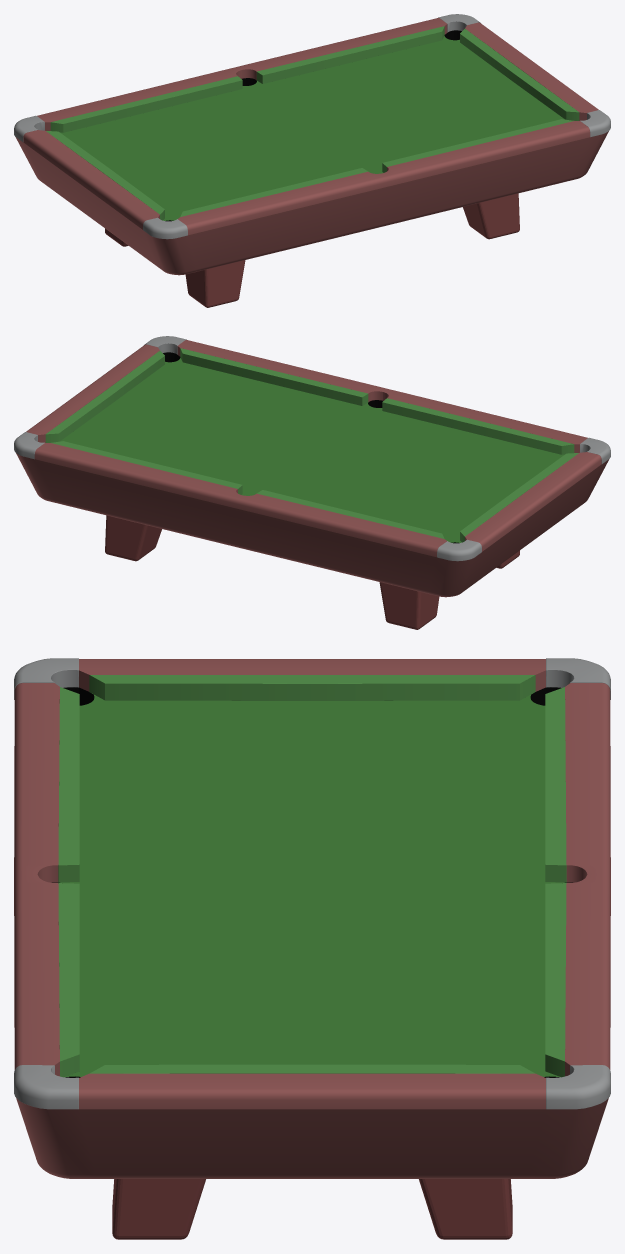
File: Pool_Table_fbx.fbx
3 renders of one model, top to bottom at view 1: azimuth 30°, elevation 25°; view 2: azimuth 150°, elevation 25°; view 3: azimuth 270°, elevation 25°, orthographic. The views are drawn at different scales.
Visible parts, largest first — view 1: Circle.001, Circle.002, Plane, Cube, Circle.003; view 2: Circle.001, Circle.002, Plane, Cube, Circle.003; view 3: Circle.001, Circle.002, Plane, Cube, Circle.003.
Part boxes in pixels (x1=…): Circle.001: x1=60, y1=36, x2=574, y2=220; Circle.002: x1=15, y1=18, x2=608, y2=275; Plane: x1=46, y1=26, x2=579, y2=220; Cube: x1=105, y1=193, x2=519, y2=307; Circle.003: x1=14, y1=14, x2=610, y2=239; Circle.001: x1=50, y1=358, x2=564, y2=542; Circle.002: x1=16, y1=340, x2=609, y2=597; Plane: x1=45, y1=348, x2=578, y2=542; Cube: x1=105, y1=515, x2=519, y2=629; Circle.003: x1=14, y1=336, x2=610, y2=561; Circle.001: x1=58, y1=693, x2=566, y2=1077; Circle.002: x1=14, y1=659, x2=610, y2=1178; Plane: x1=58, y1=675, x2=566, y2=1077; Cube: x1=112, y1=1179, x2=512, y2=1239; Circle.003: x1=14, y1=658, x2=610, y2=1109.
Bounding box in the file's own units: 3109 × 727 × 1798.
